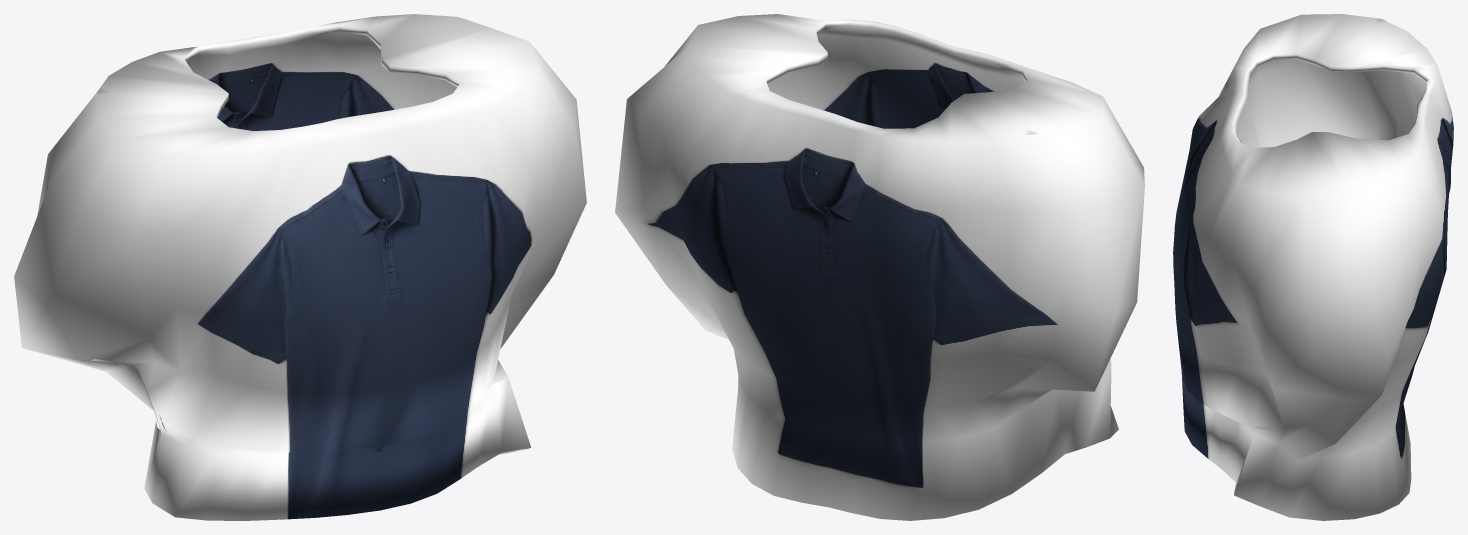
Rendered from 1bbf64a2-6fde-40f5-8a09-0520552043a4.glb.
The picture shows the model from 3 angles, left to right: view 1: azimuth 30°, elevation 25°; view 2: azimuth 150°, elevation 25°; view 3: azimuth 270°, elevation 25°; orthographic projection. The views are drawn at different scales.
Visible parts, largest first — view 1: garment; view 2: garment; view 3: garment.
Part boxes in pixels (x1,y1,x2,y2): garment: [14, 14, 586, 520]; garment: [615, 14, 1144, 520]; garment: [1173, 14, 1453, 520].
Size of the model in its own units: 0.577 by 0.4418 by 0.3052.
1 material, 1 textured.
